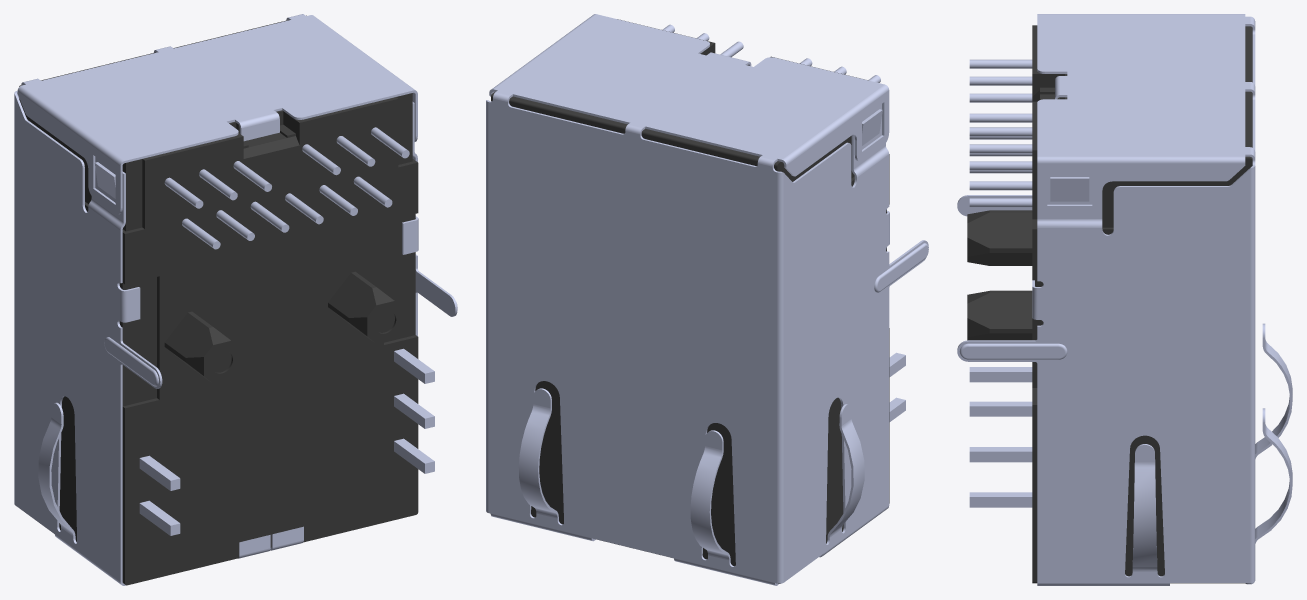
File: sfe-l829-1j1t-43.glb
3 renders of one model, left to right at view 1: azimuth 30°, elevation 25°; view 2: azimuth 150°, elevation 25°; view 3: azimuth 270°, elevation 25°, orthographic.
Parts seen in each view (by area): view 1: 0.08333333333333333_0.08333333333333333_0.08333333333333333_, 0.5833333333333334_0.6666666666666666_0.8333333333333334_0; view 2: 0.5833333333333334_0.6666666666666666_0.8333333333333334_0, 0.08333333333333333_0.08333333333333333_0.08333333333333333_; view 3: 0.5833333333333334_0.6666666666666666_0.8333333333333334_0, 0.08333333333333333_0.08333333333333333_0.08333333333333333_.
Boxes of the visible parts, x1,y1,x2,y2 form: 0.08333333333333333_0.08333333333333333_0.08333333333333333_: (19,15,418,585); 0.5833333333333334_0.6666666666666666_0.8333333333333334_0: (14,14,457,585); 0.5833333333333334_0.6666666666666666_0.8333333333333334_0: (486,14,928,585); 0.08333333333333333_0.08333333333333333_0.08333333333333333_: (491,19,889,583); 0.5833333333333334_0.6666666666666666_0.8333333333333334_0: (957,14,1292,585); 0.08333333333333333_0.08333333333333333_0.08333333333333333_: (967,25,1252,583).
Bounding box in the file's own units: 2.03 × 2.4 × 1.7.
